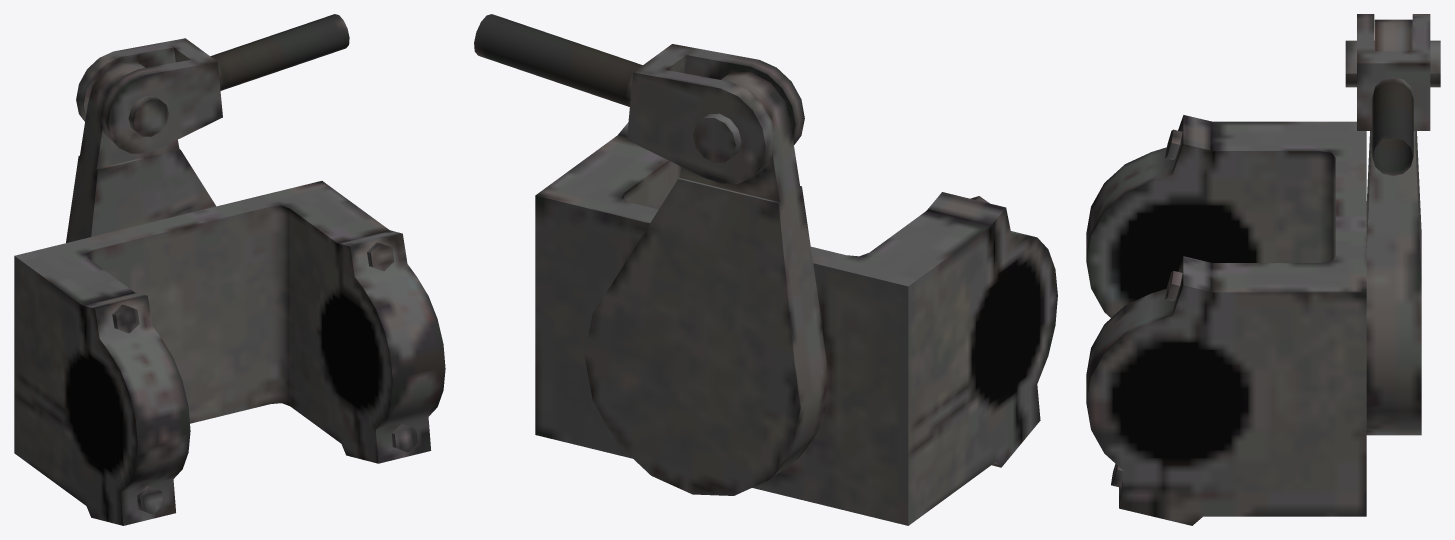
The model's file is Turret_01.glb.
The picture shows the model from 3 angles, left to right: view 1: azimuth 30°, elevation 25°; view 2: azimuth 150°, elevation 25°; view 3: azimuth 270°, elevation 25°; orthographic projection. The views are drawn at different scales.
Visible parts, largest first — view 1: set_0_group_0; view 2: set_0_group_0; view 3: set_0_group_0.
Part boxes in pixels (x1,y1,x2,y2): set_0_group_0: (14,14,445,525); set_0_group_0: (474,14,1057,525); set_0_group_0: (1086,14,1440,525).
Bounding box in the file's own units: 0.4529 × 0.4577 × 0.3607.
Materials: 1 (1 with a texture image).
